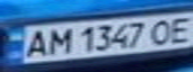1: (75, 24, 96, 53)
3: (93, 21, 115, 52)
4: (112, 20, 133, 51)
7: (127, 19, 151, 48)
A: (18, 27, 54, 60)
E: (166, 14, 193, 44)
M: (42, 25, 72, 56)
O: (148, 17, 175, 46)
